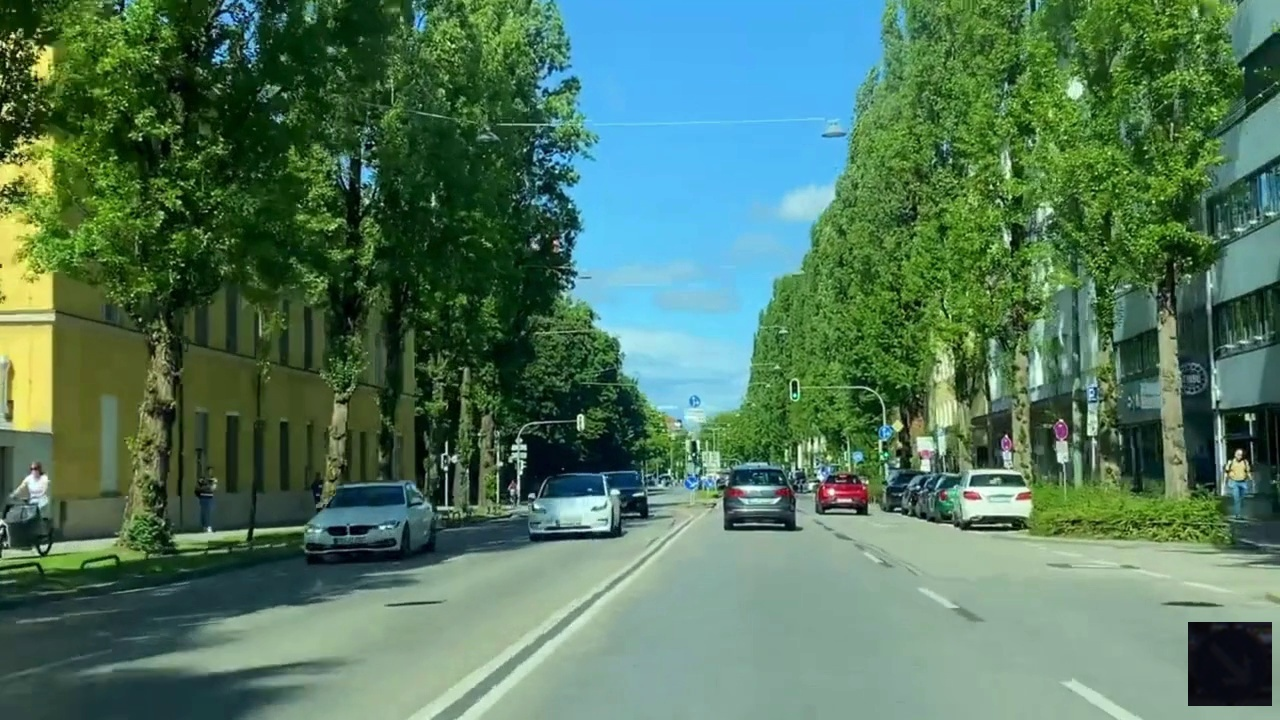Keep right: (1188, 622, 1272, 706)
